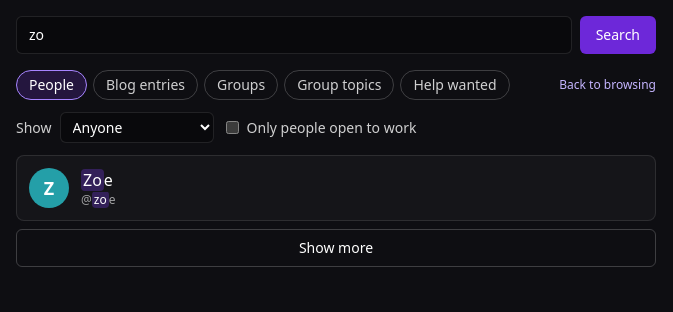
Test case: SearchPage: searching › shows more, without repeating anyone
Expected: the link "Z Zoe @zoe" is shown, [29,168,116,208]
Click the button "Show more": (336, 248) [16,229,656,267]
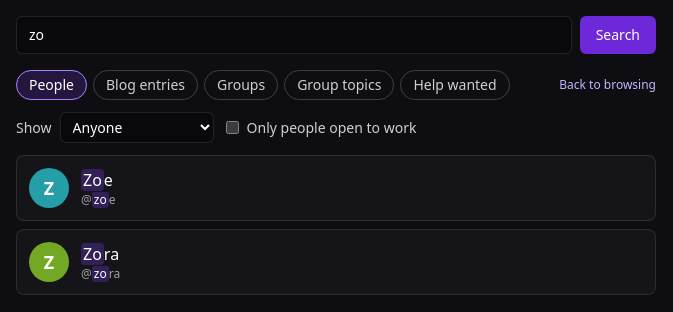
Expected: the link "Z Zora @zora" is shown, [29,242,120,282]
Expected: the number of links "Z Zoe @zoe" is 1, [29,168,116,208]
Expected: the button "Show more" is gone
